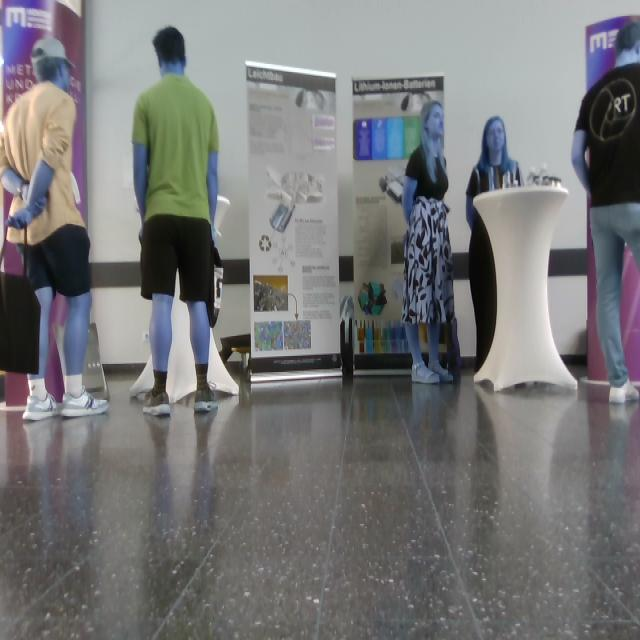door: (246, 61, 344, 381)
light bulb: (266, 166, 324, 233), (31, 37, 76, 69), (379, 166, 406, 205), (213, 195, 231, 239), (270, 202, 295, 233), (296, 88, 326, 112), (401, 92, 431, 113), (1, 26, 5, 68), (1, 118, 5, 136), (1, 52, 5, 69)
person: (1, 37, 110, 421), (131, 26, 221, 417), (571, 21, 640, 405), (401, 101, 457, 385)
pillar: (472, 184, 578, 393)
tiled floor: (1, 364, 640, 640)
